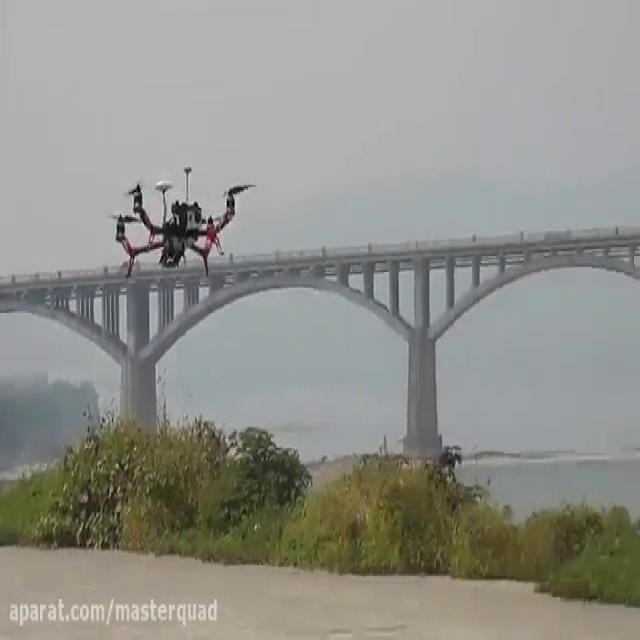drone: (104, 162, 258, 279)
